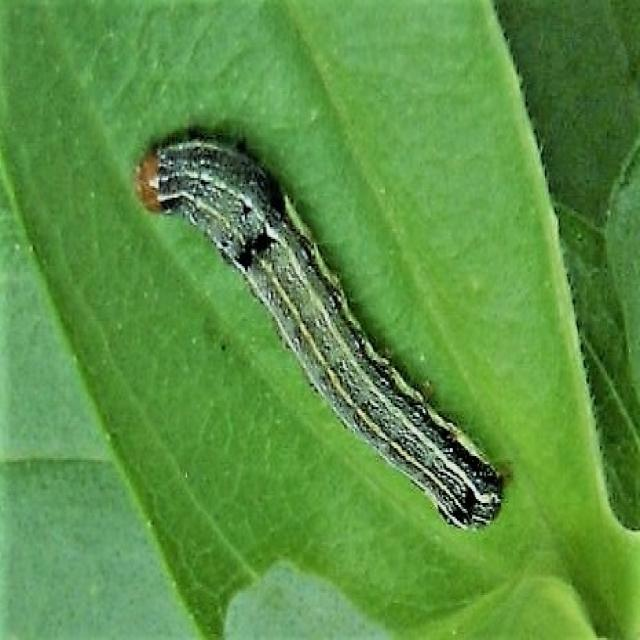armyworm: (135, 123, 505, 532)
